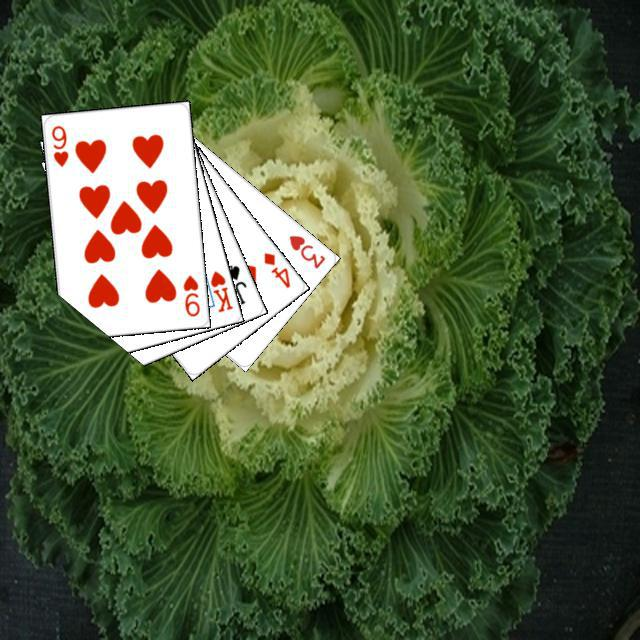3h: (284, 230, 327, 271)
4d: (259, 247, 292, 290)
9h: (46, 120, 70, 169), (178, 270, 201, 318)
Js: (220, 260, 248, 306)
Kh: (198, 264, 234, 314)
